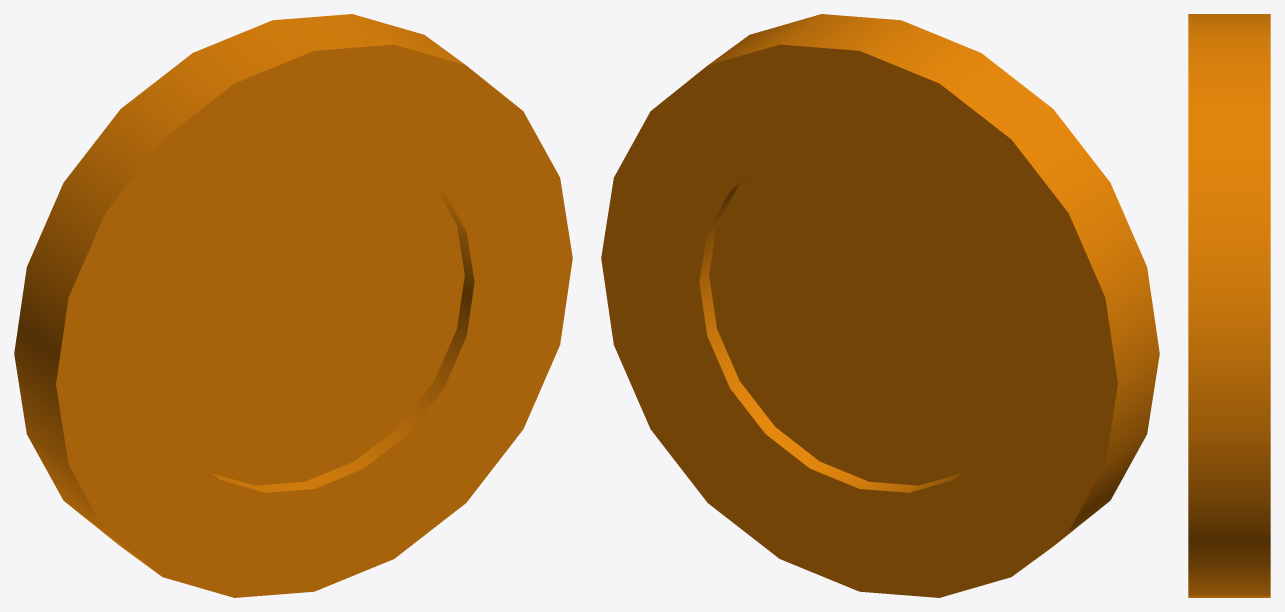
The model's file is Coin.fbx.
The picture shows the model from 3 angles, left to right: view 1: azimuth 30°, elevation 25°; view 2: azimuth 150°, elevation 25°; view 3: azimuth 270°, elevation 25°; orthographic projection.
Visible parts, largest first — view 1: Coin; view 2: Coin; view 3: Coin.
Part boxes in pixels (left/top/right/bottom): Coin: left=14, top=14, right=572, bottom=597; Coin: left=601, top=14, right=1159, bottom=597; Coin: left=1188, top=14, right=1270, bottom=597.
Bounding box in the file's own units: 100 × 100 × 14.
